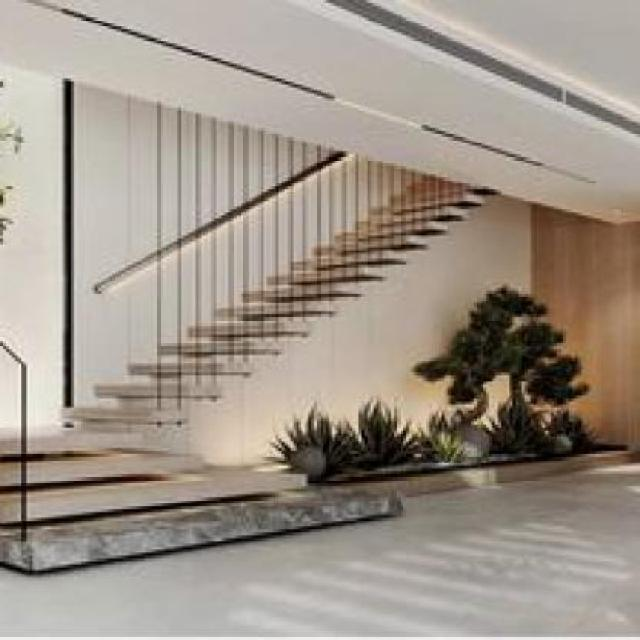stair: (0, 424, 425, 530)
